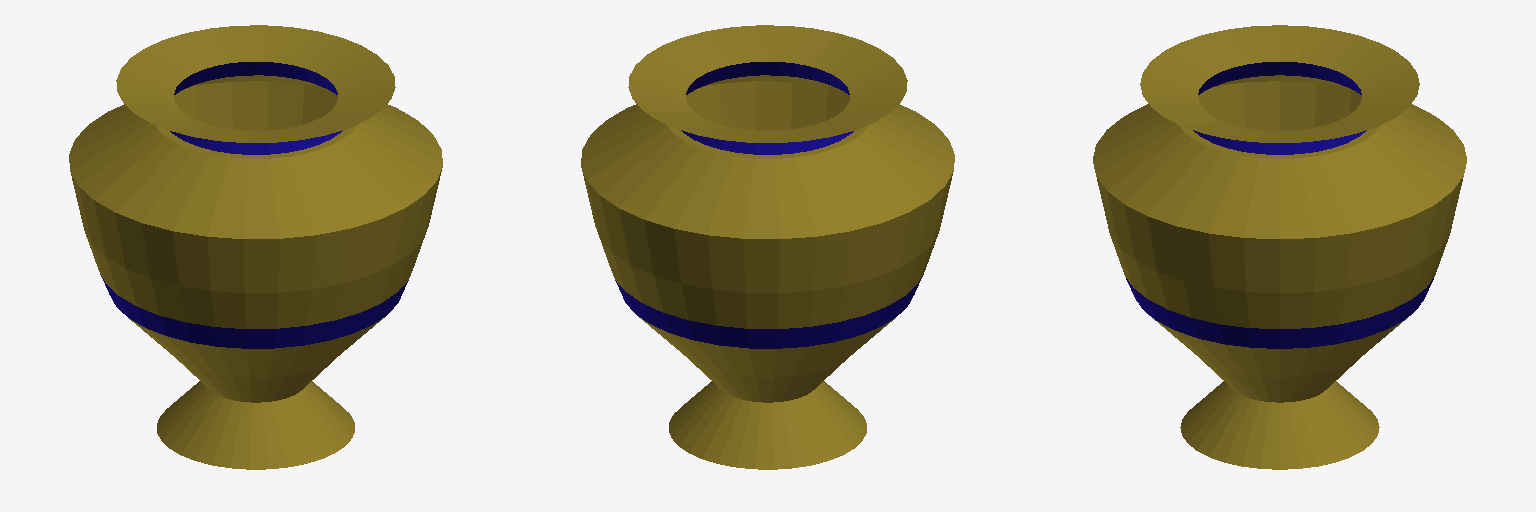
The model's file is vase.obj.
The picture shows the model from 3 angles: view 1: azimuth 30°, elevation 25°; view 2: azimuth 150°, elevation 25°; view 3: azimuth 270°, elevation 25°; orthographic projection.
Visible parts, largest first — view 1: Cylinder; view 2: Cylinder; view 3: Cylinder.
Boxes of the visible parts, <box> form: Cylinder: <box>69,25,442,469</box>; Cylinder: <box>581,25,954,469</box>; Cylinder: <box>1093,25,1466,469</box>.
Size of the model in its own units: 3.76 by 3.8 by 3.76.